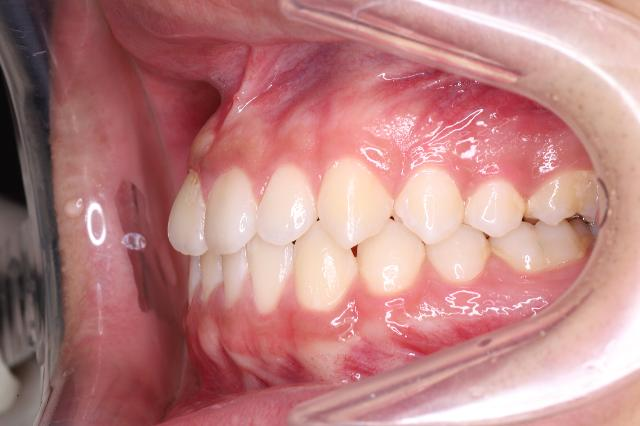canine class II 1/4: (296, 154, 428, 324)
molar class III 1/2: (490, 156, 612, 284)
